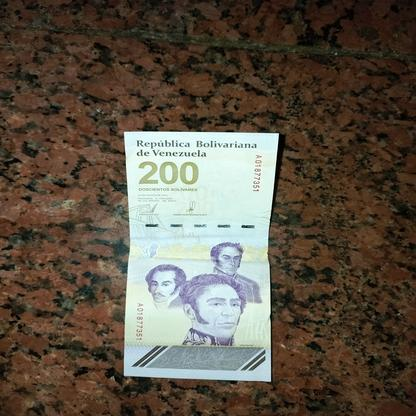two_hundred-front-vef: (123, 132, 279, 382)
